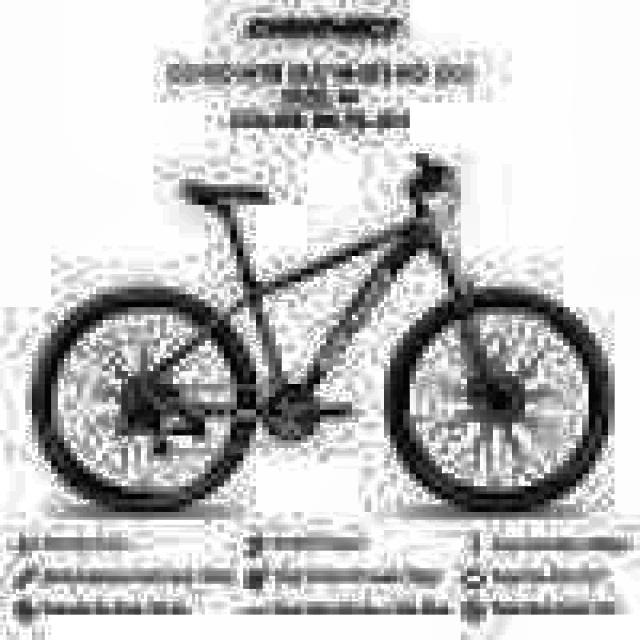motorcycle: (32, 152, 640, 512)
